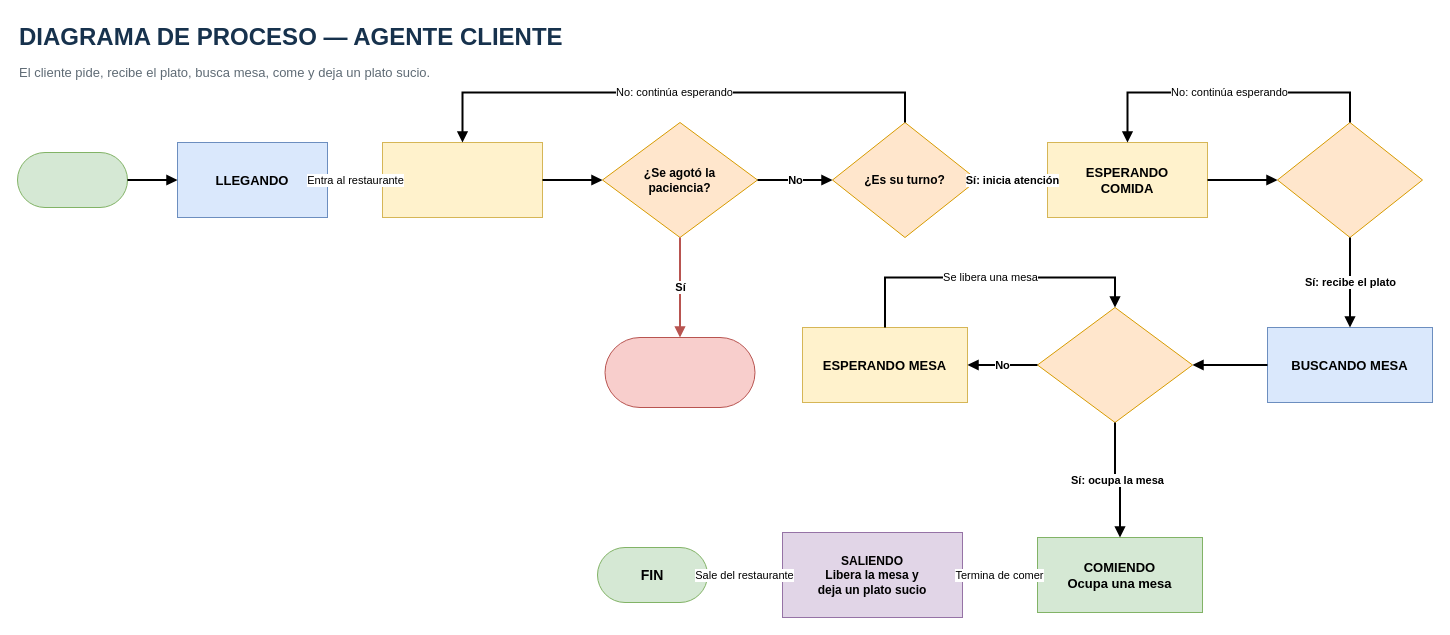
Image size: 1450x635. Some labels were removed from this diagram. The shapes that lost their labels are listed below. From the top down, each one's centre as x and y in pixels, then its label:
At point (72, 180): "INICIO".
At point (462, 180): "ESPERANDO PEDIDO".
At point (1349, 180): "¿Plato listo?".
At point (679, 372): "ABANDONO Sale sin completar el servicio".
At point (1114, 364): "¿Hay mesa disponible?".
